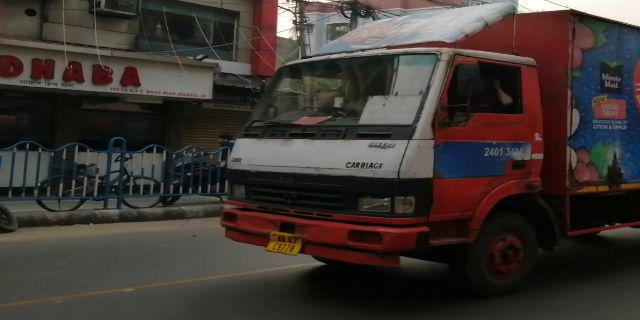Truck: (219, 19, 624, 267)
